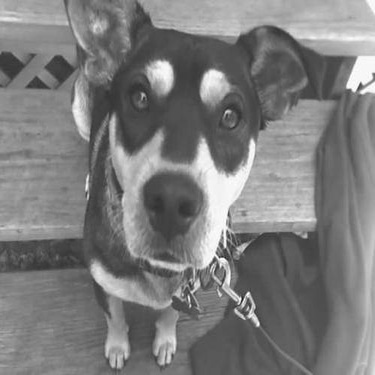dog: (45, 4, 313, 374)
